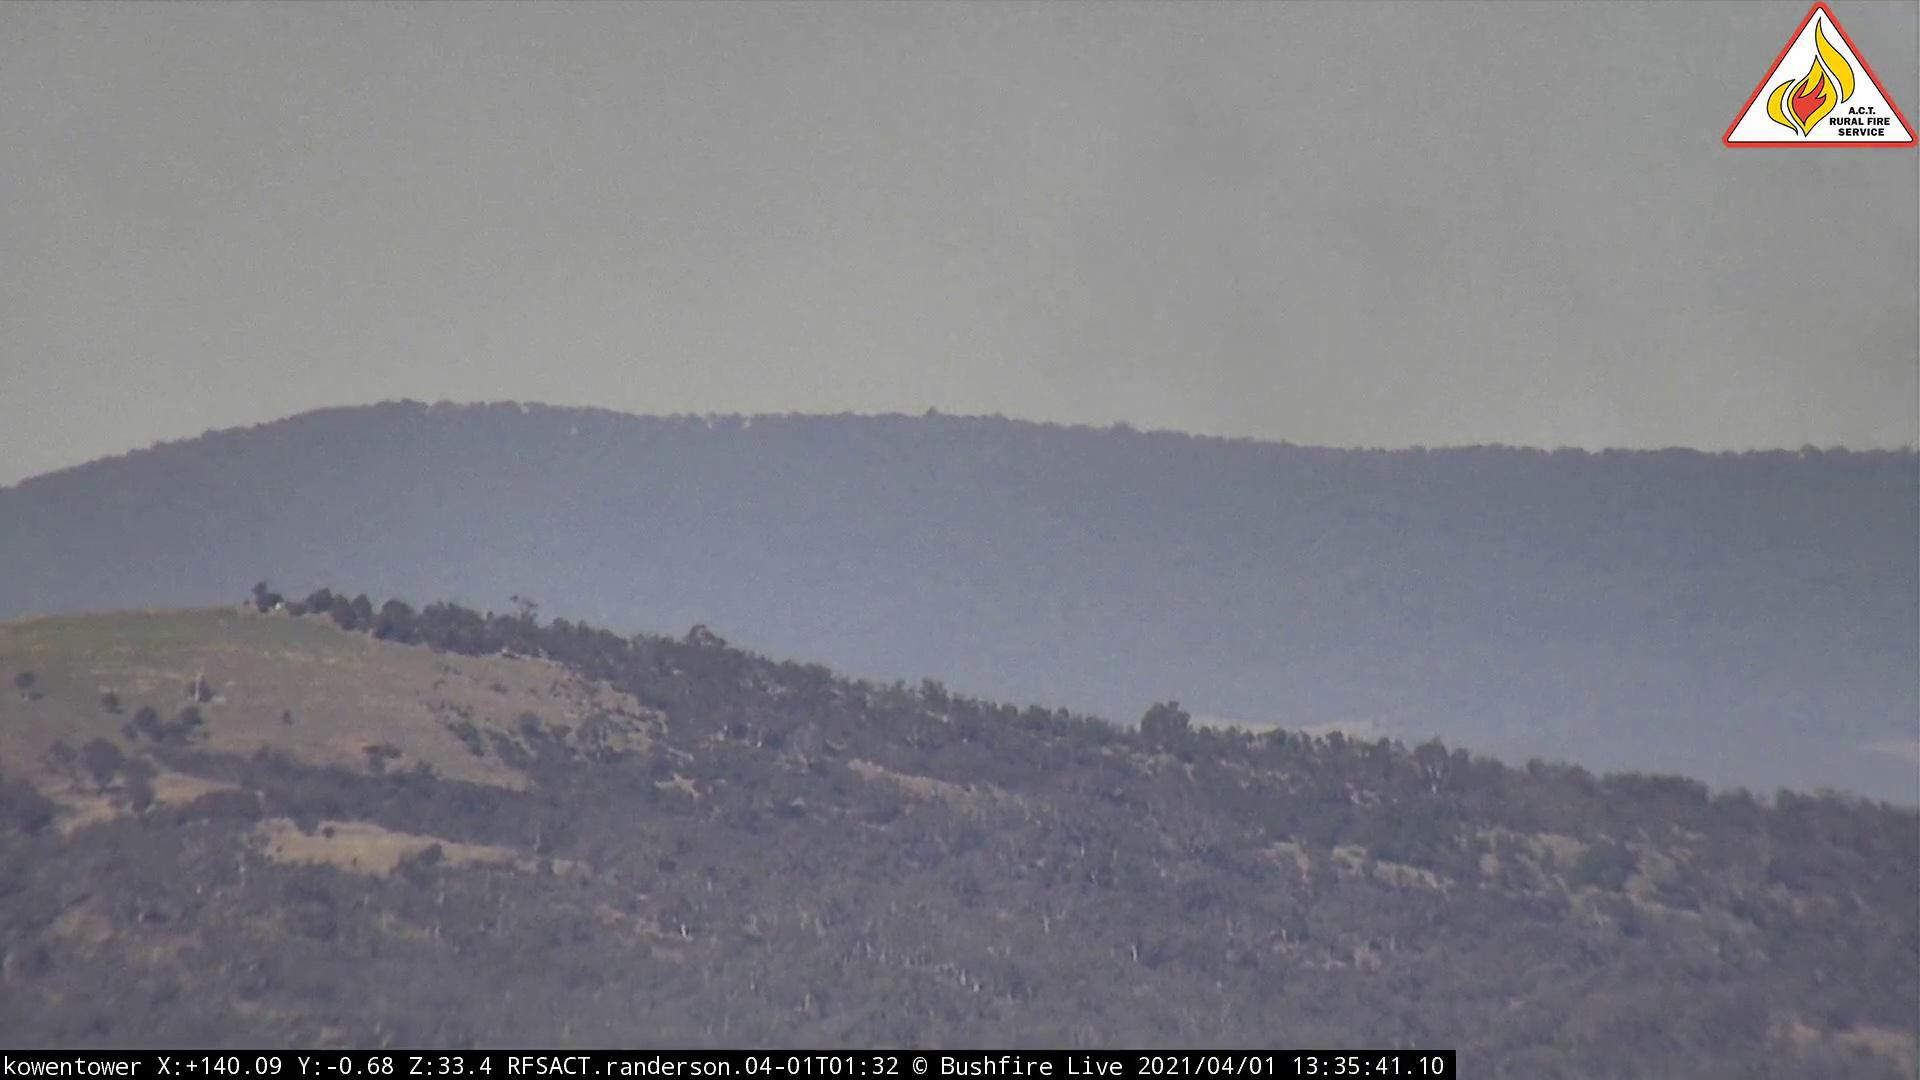Smoke: (1000, 84, 1520, 471)
